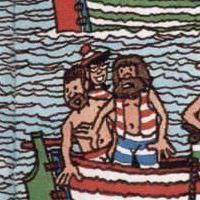wenda: (85, 45, 112, 93)
